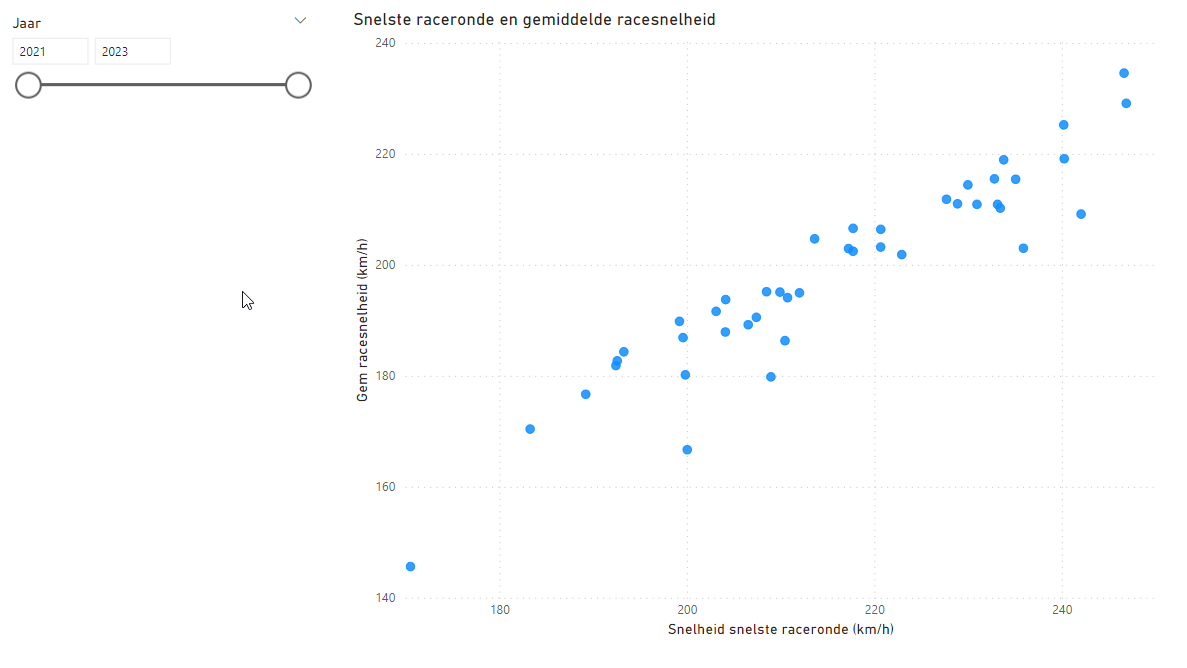

The page's visual inventory and layout, read from the dashboard file:
{"tool":"powerbi","page":{"name":"Pagina 2","canvas":[1280,720],"ordinal":1},"visuals":[{"type":"slicer","fields":{"Values":["Datum.Jaar"]},"box":[75.8,14.6,312,163.3],"z":0},{"type":"scatterChart","title":"Snelste raceronde en gemiddelde racesnelheid","fields":{"X":["Max(public fact_lapspeeds.avgspeed_lap_kmh)"],"Y":["public fact_lapspeeds.Gem racesnelheid (km/h)"]},"box":[415,14.6,799.9,615.2],"z":1000}]}

Visuals, with their boxes on the page's 1280x720 design canvas (x1, y1, x2, y2). These are canvas units, not pixel positions in the 1187x668 screenshot, which may show the page scaled, cropped or inside an application window:
slicer - Datum.Jaar: left=76, top=15, right=388, bottom=178
"Snelste raceronde en gemiddelde racesnelheid" scatterChart: left=415, top=15, right=1215, bottom=630
